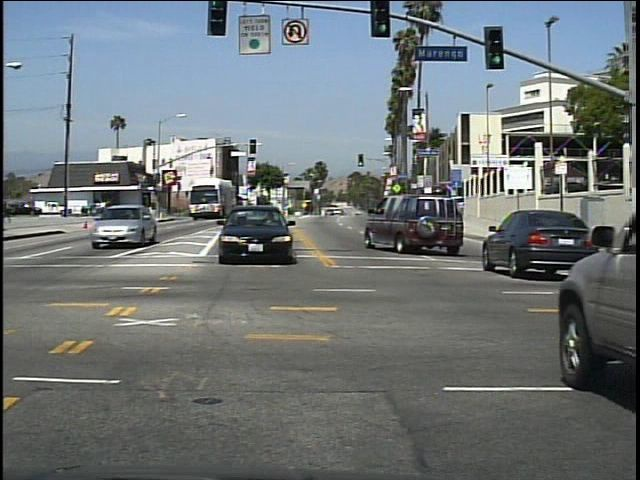person: (4, 198, 17, 227)
